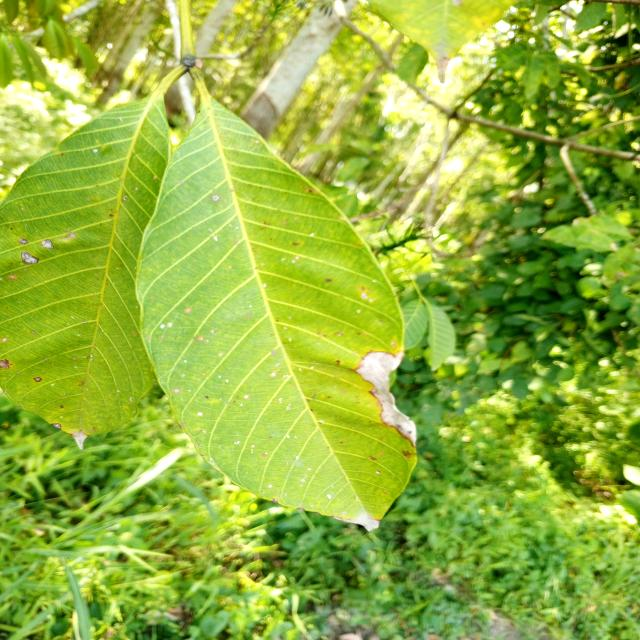Colletotrichum: (212, 194, 220, 202), (33, 377, 42, 382), (122, 195, 128, 201), (326, 278, 332, 283), (31, 331, 36, 334), (307, 399, 311, 402), (10, 228, 13, 230)
Leaf-Blight: (353, 350, 418, 448), (333, 516, 382, 532), (71, 430, 89, 450)
